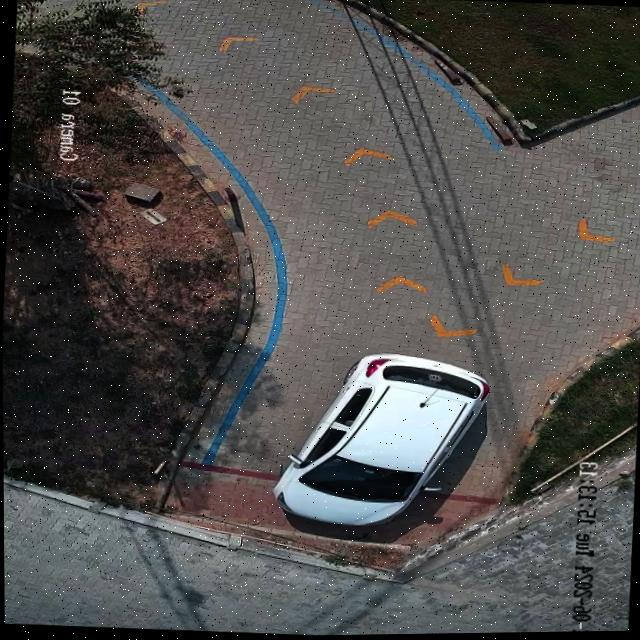car: (270, 353, 488, 528)
